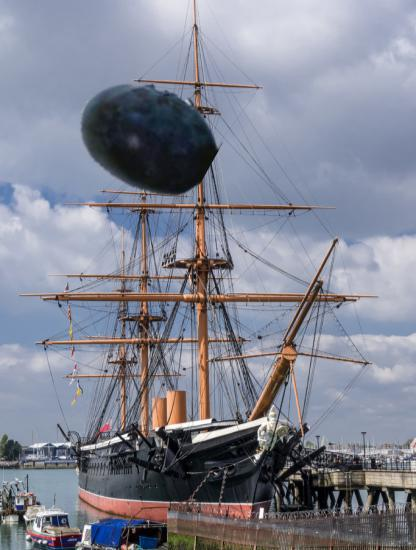Blueberry: (78, 66, 217, 205)
